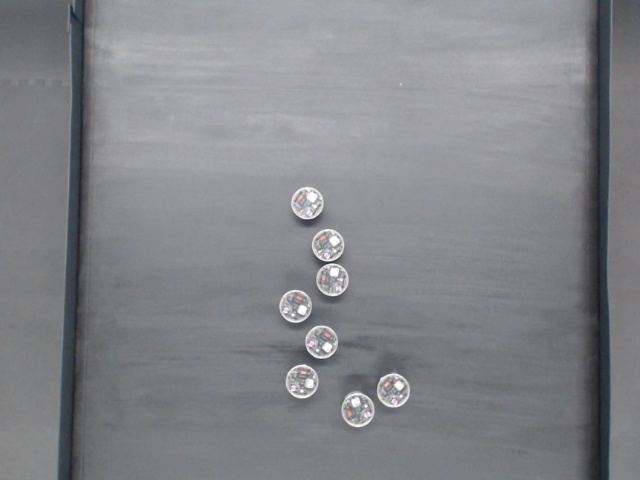epuck_2: (341, 391, 375, 427), (311, 228, 345, 262), (285, 364, 318, 399), (377, 373, 410, 408), (315, 264, 349, 297), (279, 289, 311, 324), (291, 187, 324, 220), (305, 326, 338, 359)
